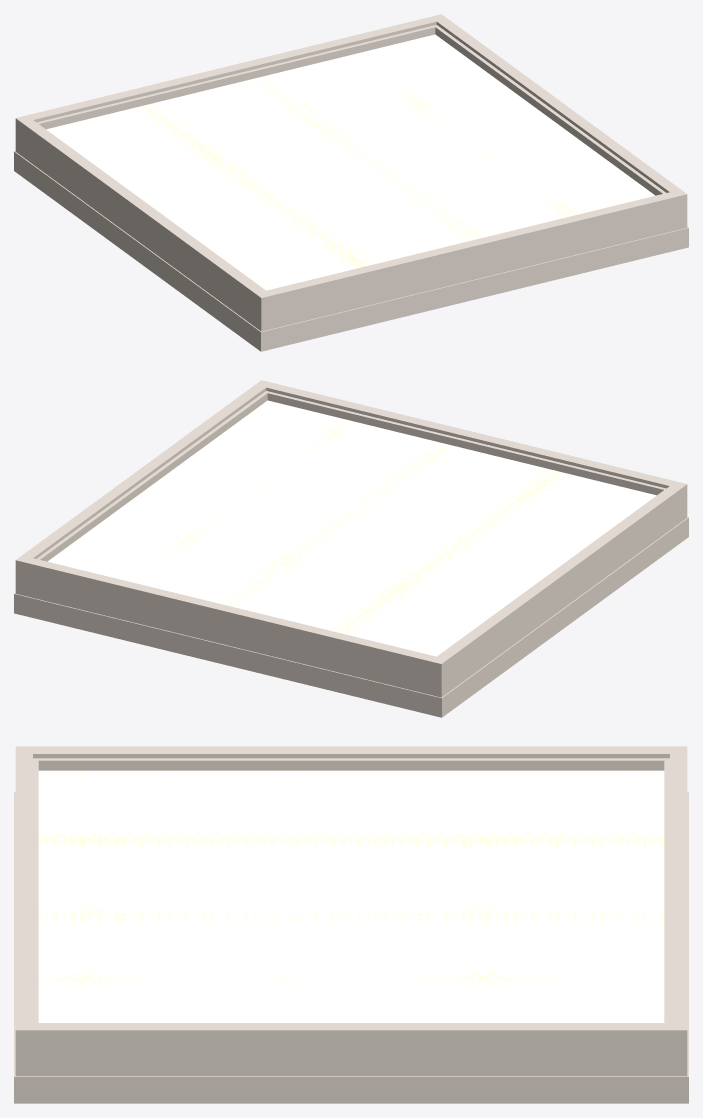
The model's file is core-lamp.glb.
The picture shows the model from 3 angles, top to bottom: view 1: azimuth 30°, elevation 25°; view 2: azimuth 150°, elevation 25°; view 3: azimuth 270°, elevation 25°; orthographic projection. The views are drawn at different scales.
Visible parts, largest first — view 1: Object_2, Object_3; view 2: Object_2, Object_3; view 3: Object_2, Object_3.
Part boxes in pixels (x1,y1,x2,y2): Object_2: (46, 34, 654, 290); Object_3: (14, 14, 688, 351); Object_2: (48, 400, 656, 656); Object_3: (14, 380, 688, 717); Object_2: (38, 770, 664, 1022); Object_3: (14, 746, 688, 1103).
Size of the model in its own units: 79.92 by 9.47 by 79.92.
Materials: 2 (1 with a texture image).
